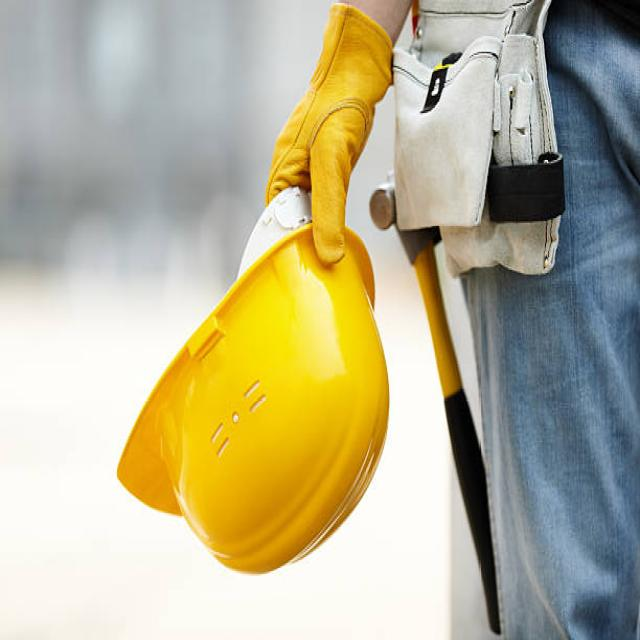gloves: (263, 0, 394, 271)
